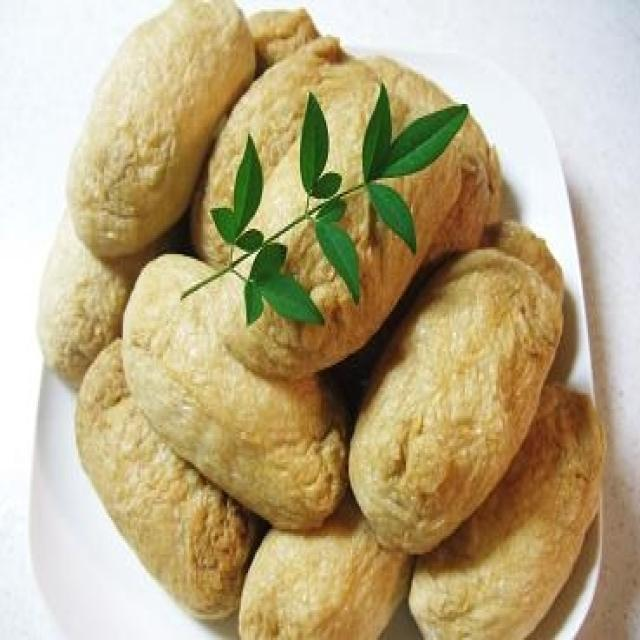寿司卷物: (22, 9, 604, 628)
